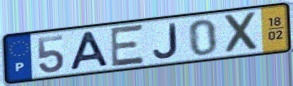0: (186, 18, 221, 57)
5: (35, 33, 66, 74)
A: (69, 29, 111, 72)
E: (110, 23, 146, 69)
J: (152, 22, 180, 60)
X: (222, 10, 261, 56)
